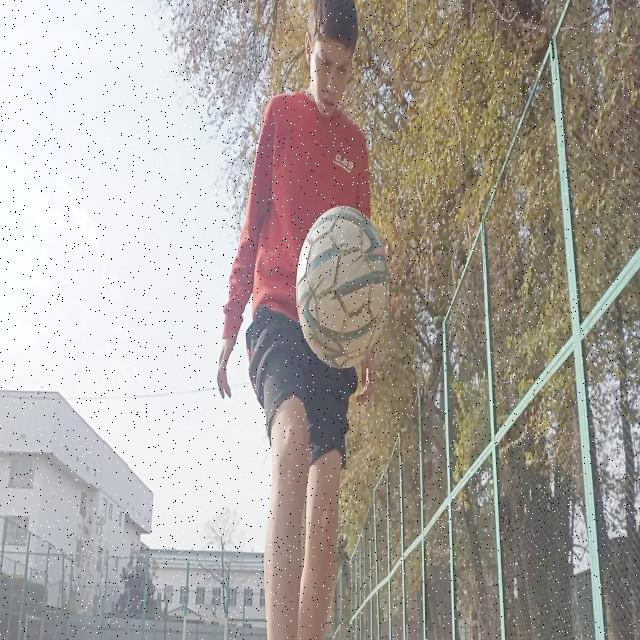ball: (294, 205, 392, 372)
